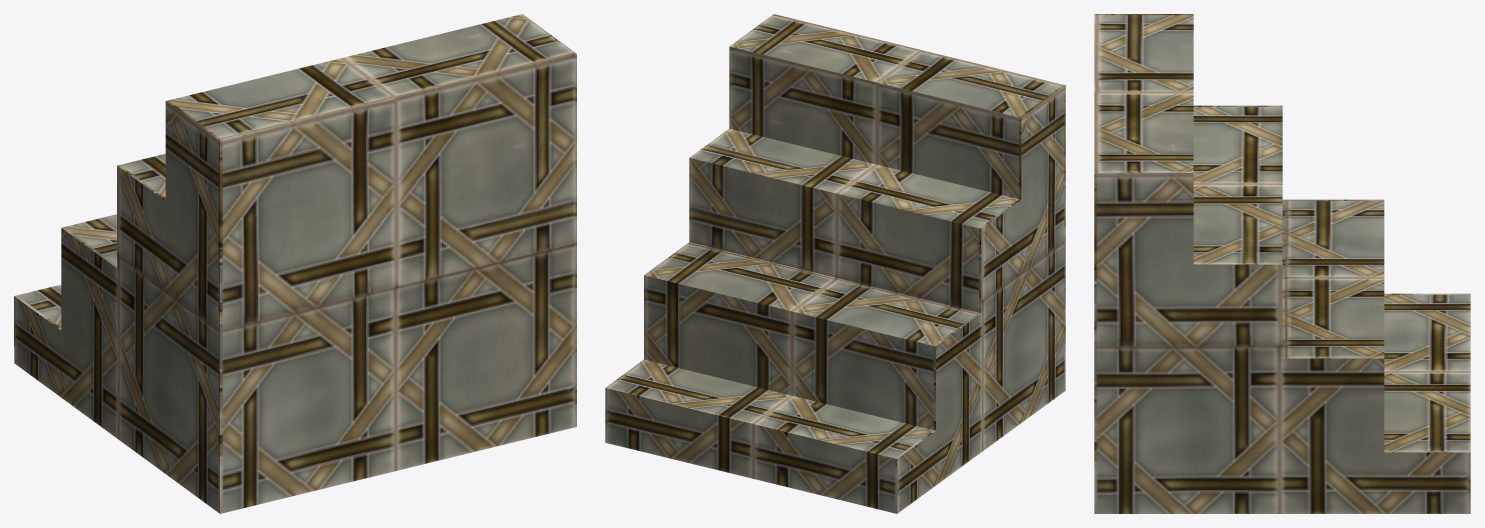
The model's file is POL0510010.fbx.
3 renders of one model, left to right at view 1: azimuth 30°, elevation 25°; view 2: azimuth 150°, elevation 25°; view 3: azimuth 270°, elevation 25°, orthographic. The views are drawn at different scales.
Parts seen in each view (by area): view 1: smPOL0510010; view 2: smPOL0510010; view 3: smPOL0510010.
Boxes of the visible parts, x1,y1,x2,y2 form: smPOL0510010: (14, 14, 576, 513); smPOL0510010: (605, 14, 1065, 513); smPOL0510010: (1094, 14, 1470, 513).
Size of the model in its own units: 161 by 161 by 161.
Materials: 1 (1 with a texture image).
